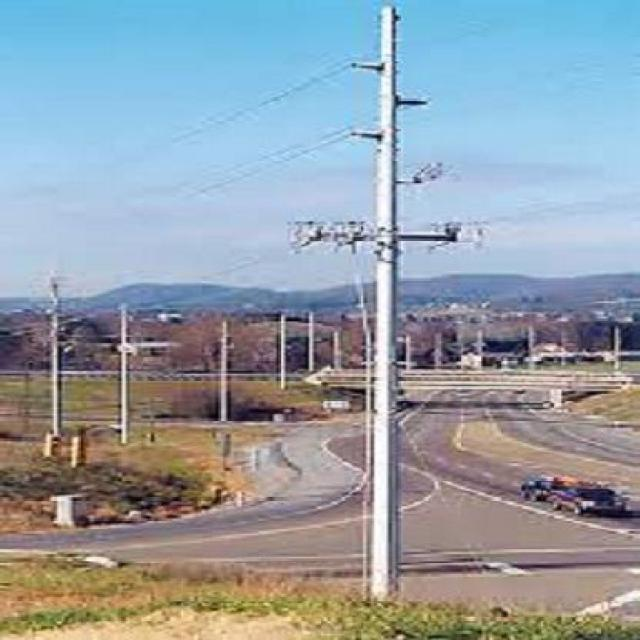pole: (312, 1, 478, 602)
